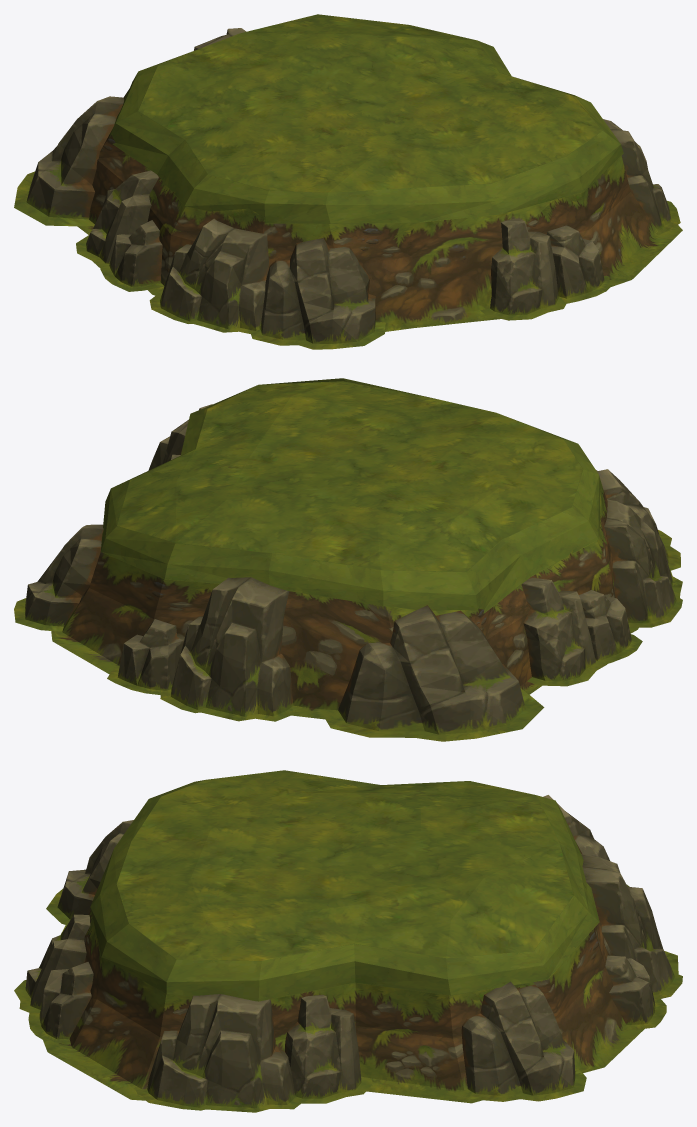
Rendered from berm_mesa_2.fbx.
3 views of the same model, one above another, from view 1: azimuth 30°, elevation 25°; view 2: azimuth 150°, elevation 25°; view 3: azimuth 270°, elevation 25° (orthographic). The views are drawn at different scales.
Visible parts, largest first — view 1: obj3.004; view 2: obj3.004; view 3: obj3.004.
Boxes of the visible parts, x1=… form: obj3.004: x1=14, y1=14, x2=682, y2=349; obj3.004: x1=14, y1=378, x2=682, y2=741; obj3.004: x1=14, y1=770, x2=682, y2=1112.
Size of the model in its own units: 15.07 by 3.42 by 15.71.
